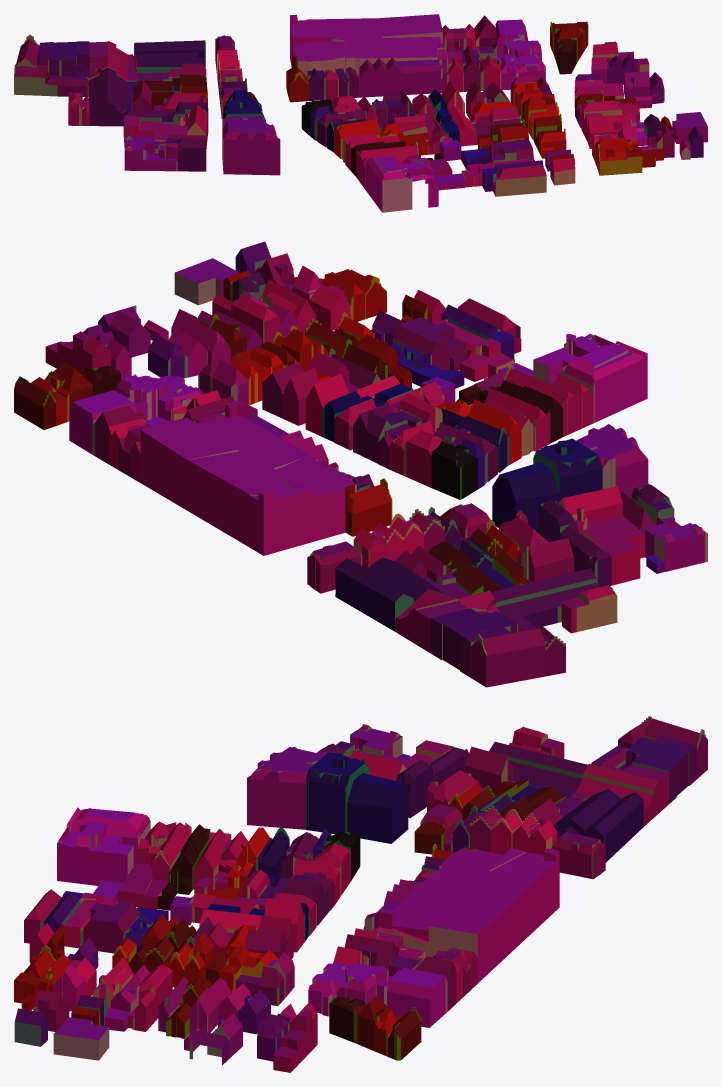
The model's file is buildings_10_9.glb.
3 renders of one model, top to bottom at view 1: azimuth 30°, elevation 25°; view 2: azimuth 150°, elevation 25°; view 3: azimuth 270°, elevation 25°, orthographic. The views are drawn at different scales.
Parts seen in each view (by area): view 1: buildings_10_9; view 2: buildings_10_9; view 3: buildings_10_9.
Boxes of the visible parts, bbox=[...] form: buildings_10_9: bbox=[14, 14, 707, 212]; buildings_10_9: bbox=[14, 241, 707, 687]; buildings_10_9: bbox=[14, 716, 707, 1072].
Bounding box in the file's own units: 219 × 20.88 × 199.
